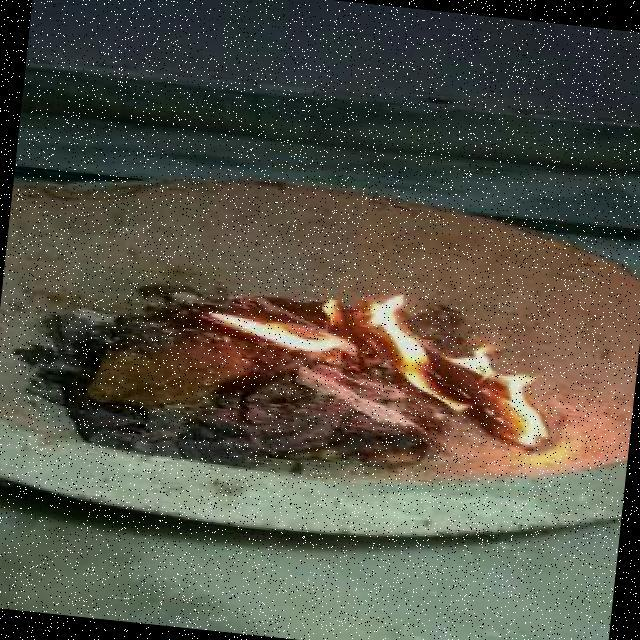Fire: (196, 271, 575, 448)
